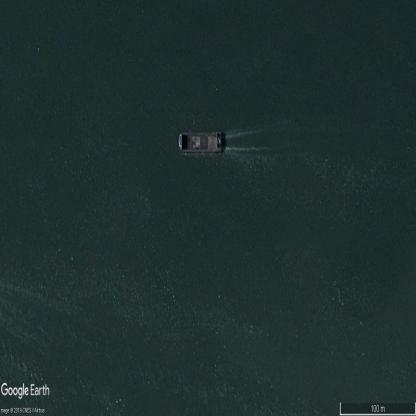ship: (178, 127, 226, 157)
